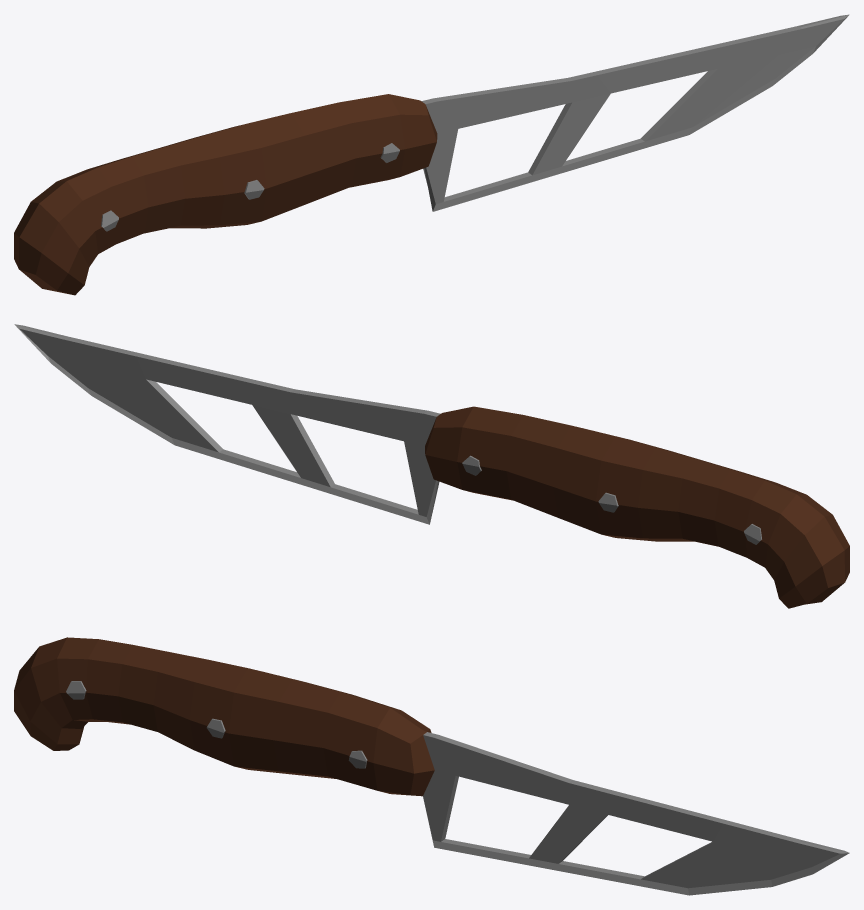
Rendered from knife_cheese.fbx.
3 renders of one model, top to bottom at view 1: azimuth 30°, elevation 25°; view 2: azimuth 150°, elevation 25°; view 3: azimuth 330°, elevation 25°, orthographic.
Parts seen in each view (by area): view 1: Cylinder.002; view 2: Cylinder.002; view 3: Cylinder.002.
Part boxes in pixels (x1=…): Cylinder.002: x1=14, y1=14, x2=849, y2=295; Cylinder.002: x1=14, y1=324, x2=849, y2=608; Cylinder.002: x1=14, y1=637, x2=849, y2=895.
Size of the model in its own units: 295 by 45.33 by 25.31.
